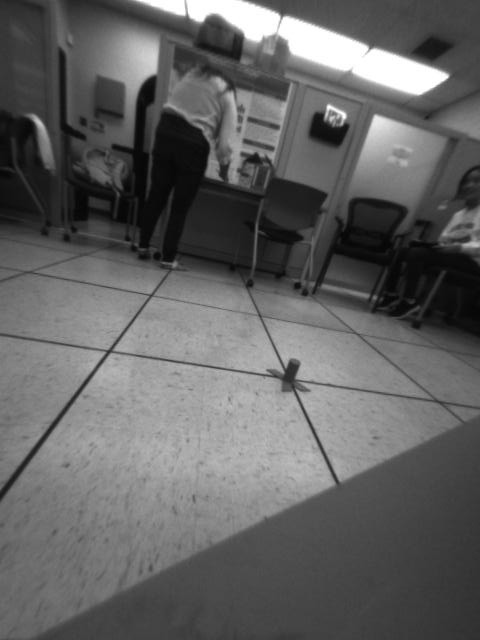X: (267, 359, 311, 396)
